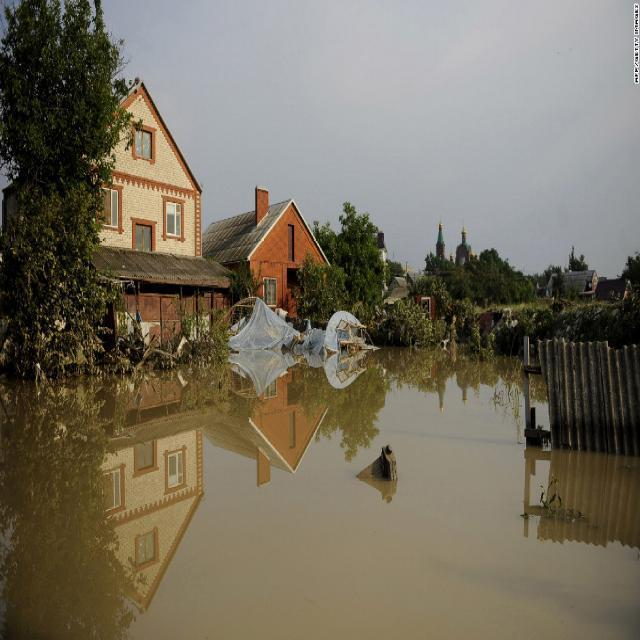flood: (0, 349, 640, 640)
house: (99, 73, 210, 258), (103, 249, 234, 361), (242, 190, 330, 317), (558, 266, 599, 299), (598, 270, 632, 304)
